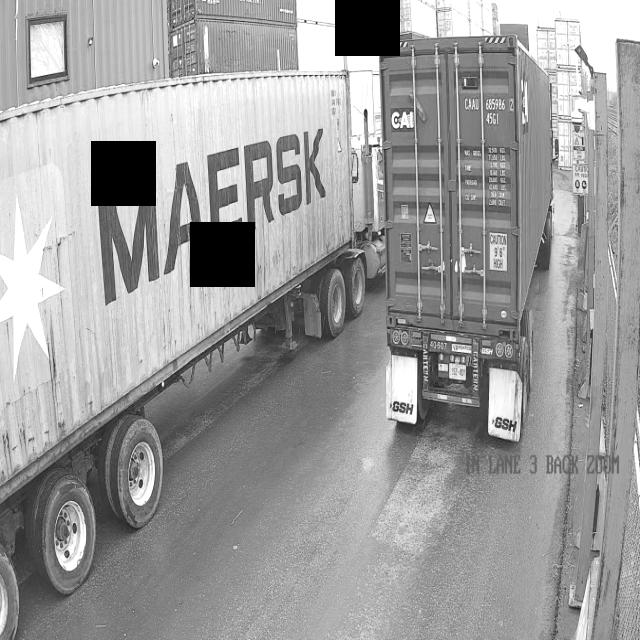container_company_logo: (90, 112, 331, 314), (389, 109, 417, 131)
container_number: (462, 92, 515, 126)
license_plate: (449, 362, 470, 385)
truck_with_container: (0, 72, 385, 640), (379, 36, 555, 441)
